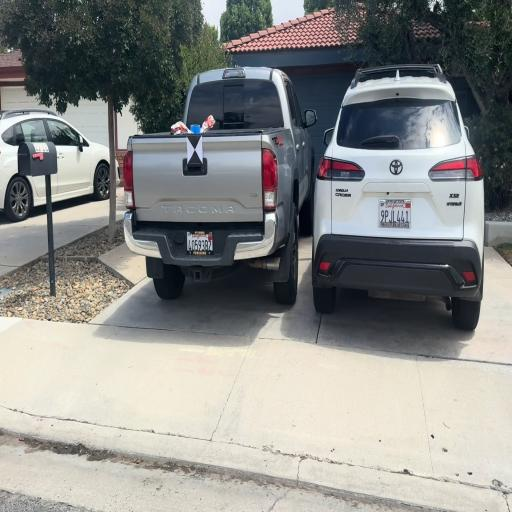target: (186, 136, 202, 164)
